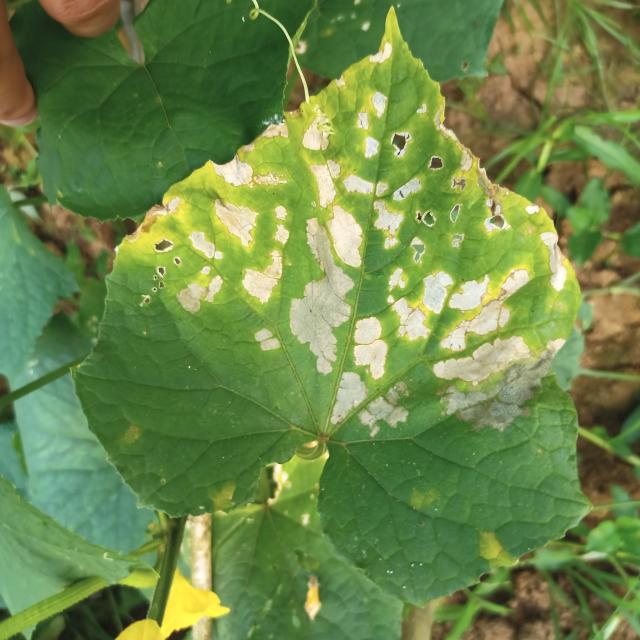disease_cucumber: (139, 26, 576, 441), (471, 524, 525, 583)
